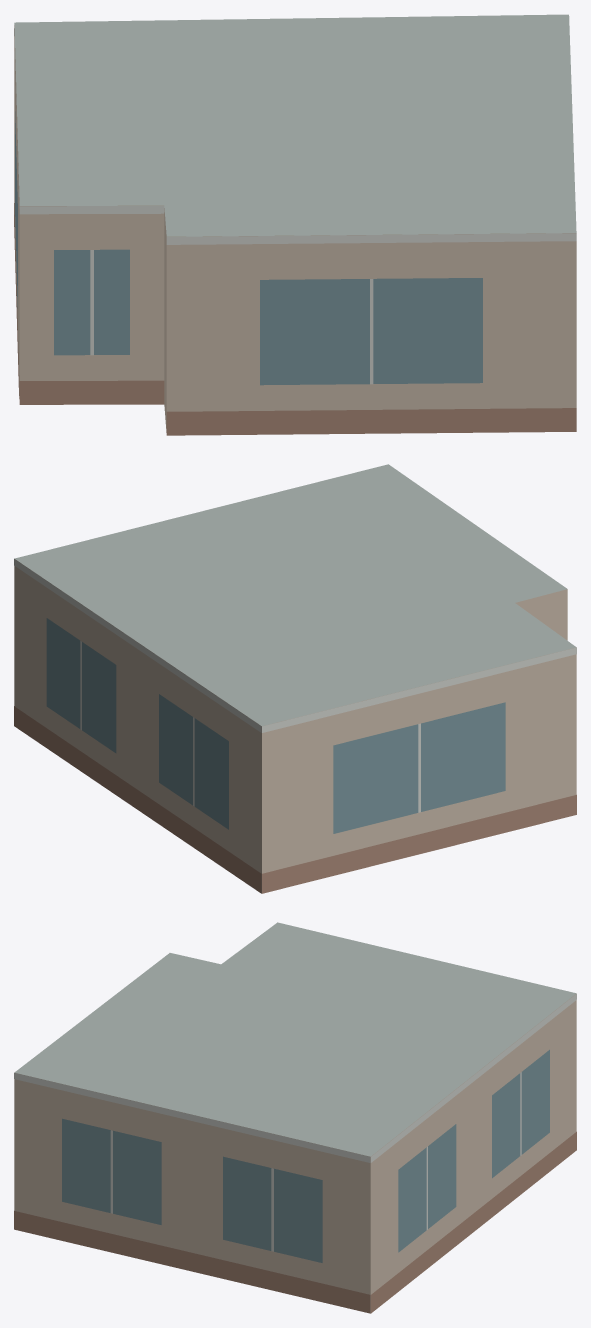
File: survey-upis-32710838.glb
3 renders of one model, top to bottom at view 1: azimuth 30°, elevation 25°; view 2: azimuth 150°, elevation 25°; view 3: azimuth 270°, elevation 25°, orthographic. The views are drawn at different scales.
Parts seen in each view (by area): view 1: survey-upis-32710838.tmp; view 2: survey-upis-32710838.tmp; view 3: survey-upis-32710838.tmp.
Part boxes in pixels (x1,y1,x2,y2): survey-upis-32710838.tmp: (14,14,576,435); survey-upis-32710838.tmp: (14,464,576,893); survey-upis-32710838.tmp: (14,922,576,1313).
Bounding box in the file's own units: 9.78 × 3.05 × 9.92.
